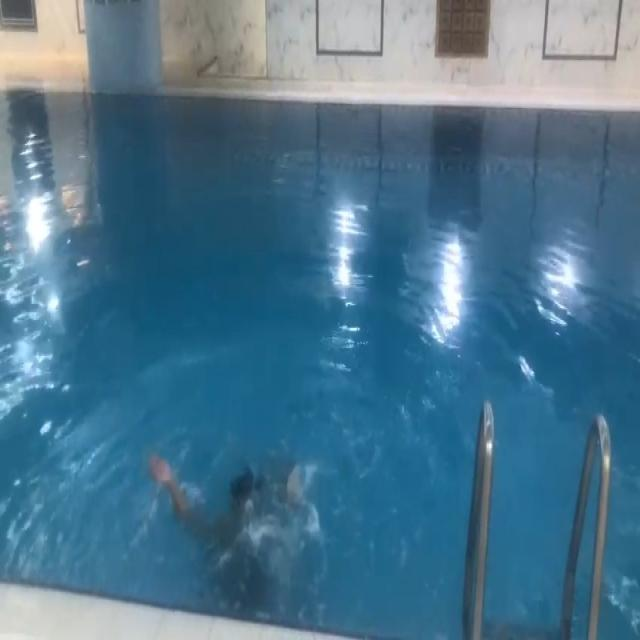Drowning: (148, 446, 314, 580)
